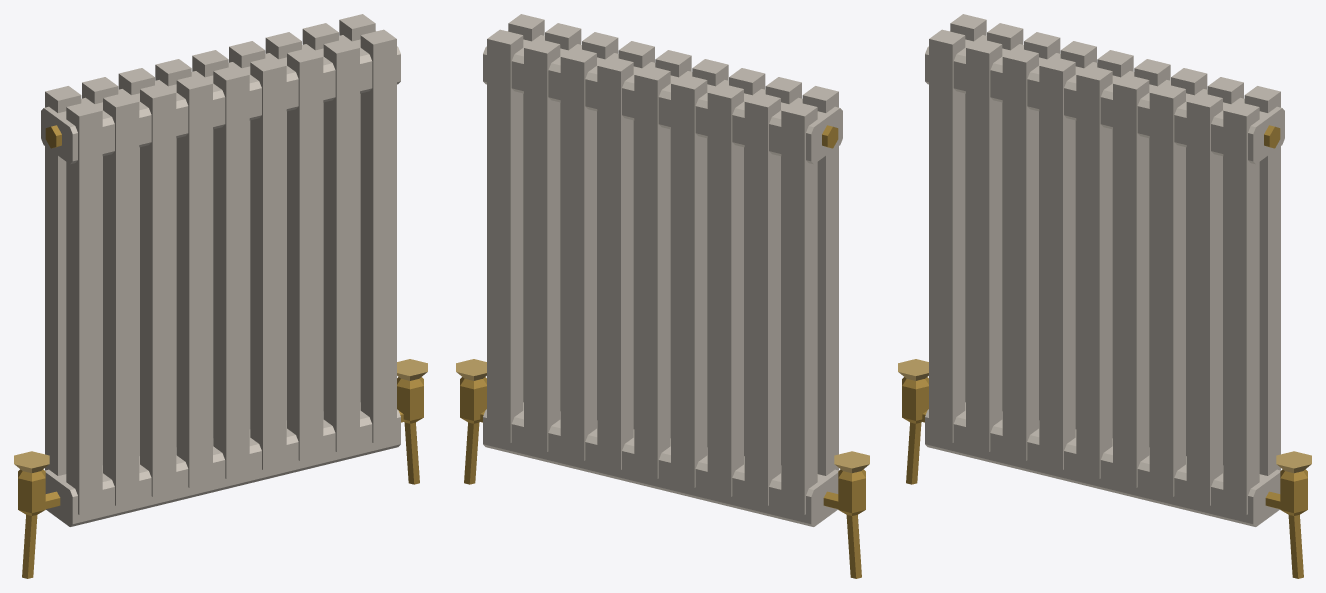
The model's file is column-radiator-18af7e.glb.
3 renders of one model, left to right at view 1: azimuth 30°, elevation 25°; view 2: azimuth 150°, elevation 25°; view 3: azimuth 330°, elevation 25°, orthographic.
Visible parts, largest first — view 1: column-radiator; view 2: column-radiator; view 3: column-radiator.
Part boxes in pixels (x1,y1,x2,y2): column-radiator: [14, 14, 427, 578]; column-radiator: [456, 14, 869, 578]; column-radiator: [898, 14, 1311, 578].
Size of the model in its own units: 0.63 by 0.675 by 0.0897.
